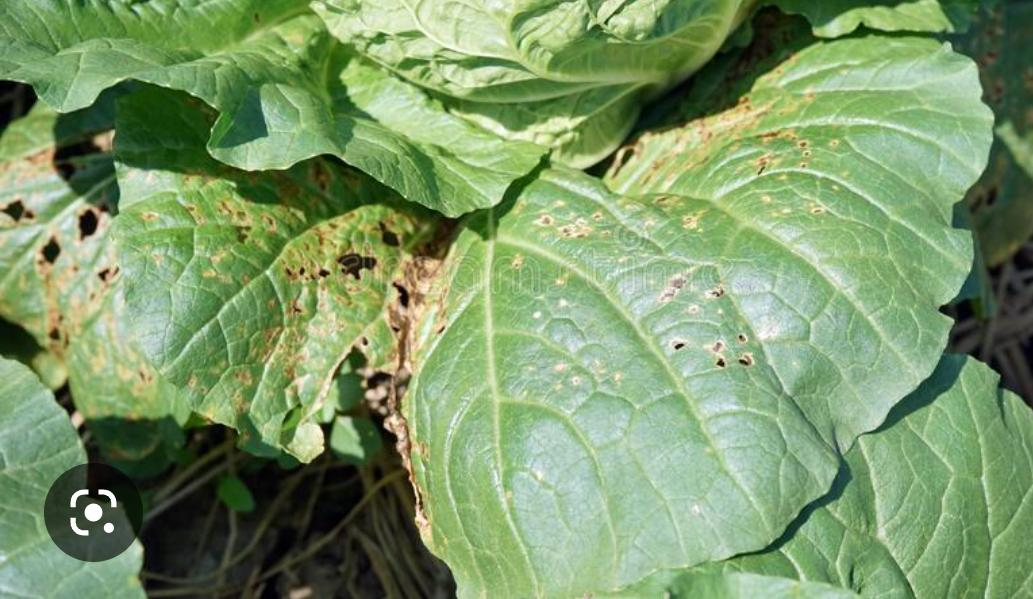Bok-Choy-Diseased: (401, 92, 941, 469), (0, 159, 447, 410)
